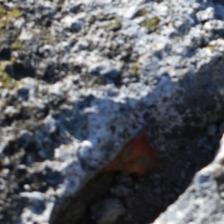Crack: (24, 30, 198, 189)
